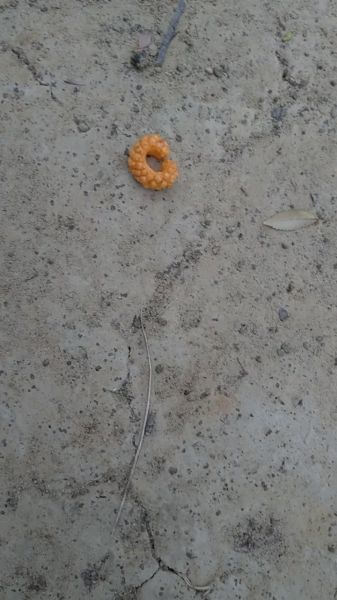eggs: (129, 129, 181, 194)
